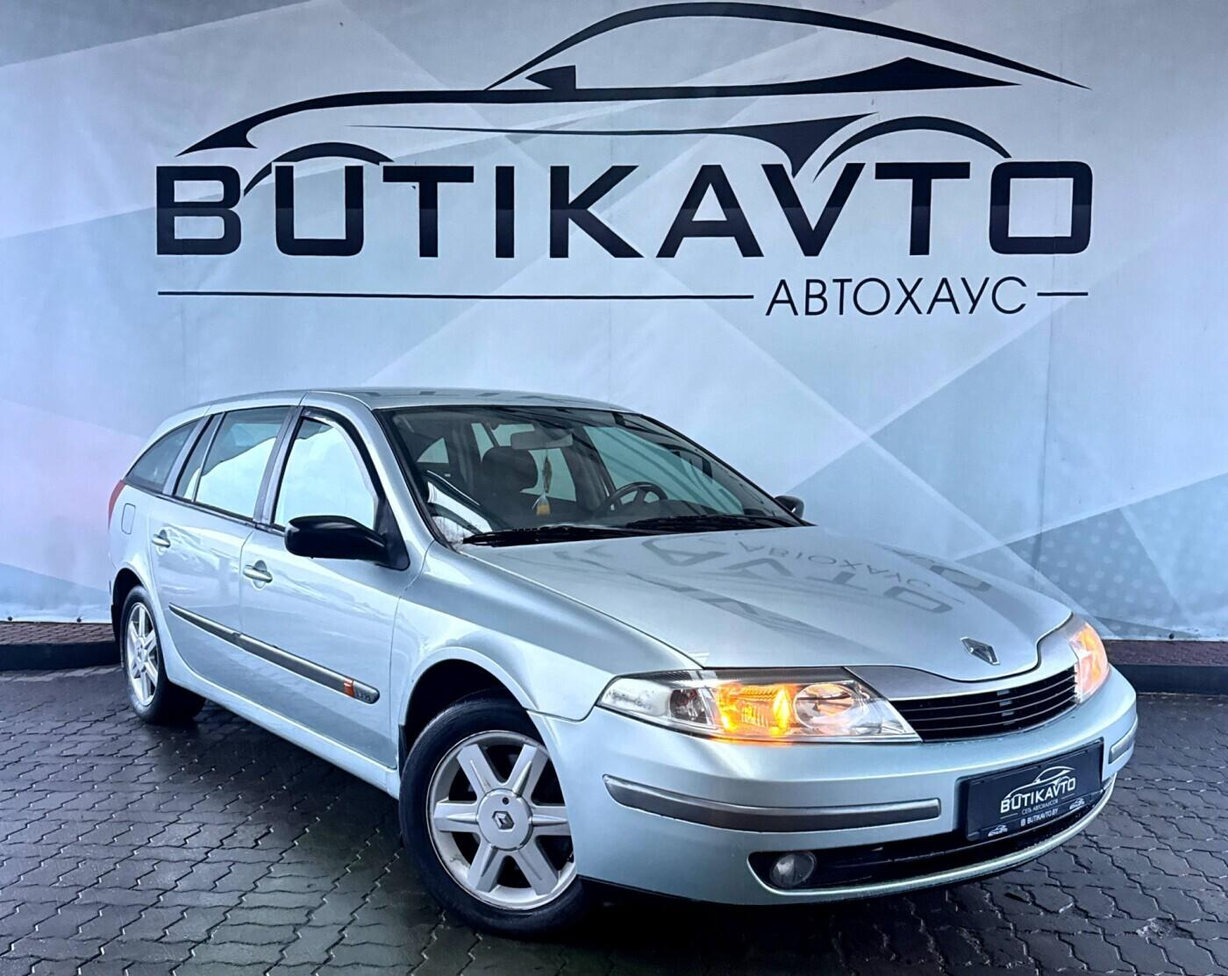Laguna_2001-2005: (109, 388, 1136, 937)
